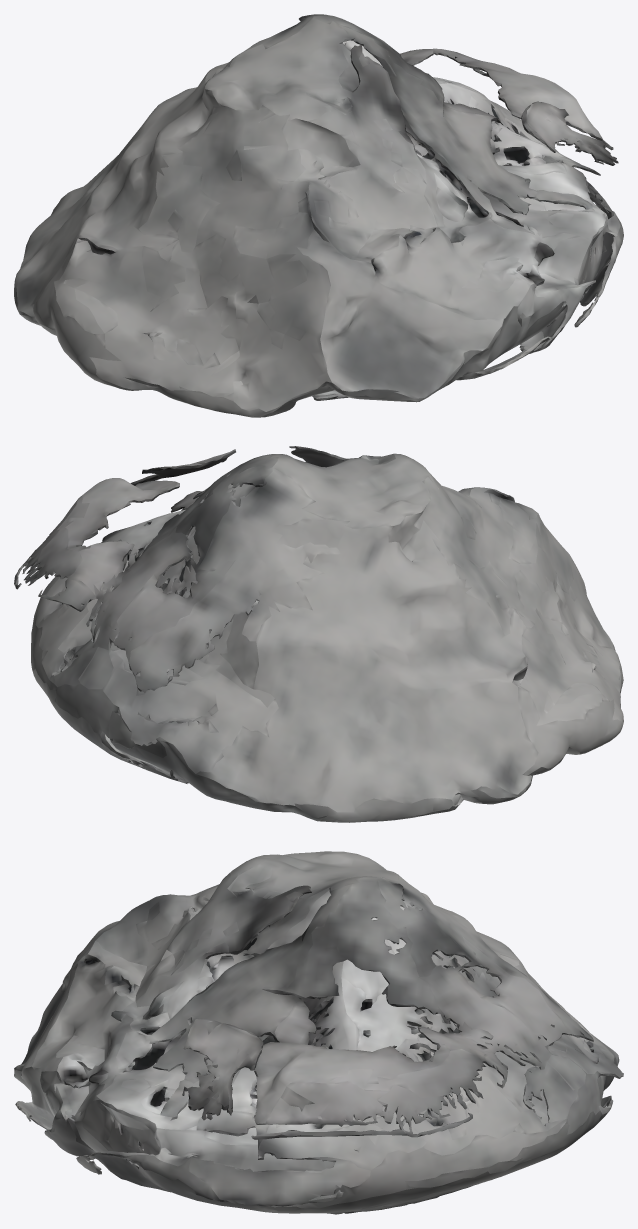
3 renders of one model, top to bottom at view 1: azimuth 30°, elevation 25°; view 2: azimuth 150°, elevation 25°; view 3: azimuth 270°, elevation 25°, orthographic.
Visible parts, largest first — view 1: world; view 2: world; view 3: world.
Part boxes in pixels (box(x1,y1,x2,y2)): world: box(14, 14, 623, 417); world: box(14, 446, 623, 822); world: box(14, 851, 623, 1214).
Bounding box in the file's own units: 0.45 × 0.2084 × 0.4501.
1 material, 1 textured.
